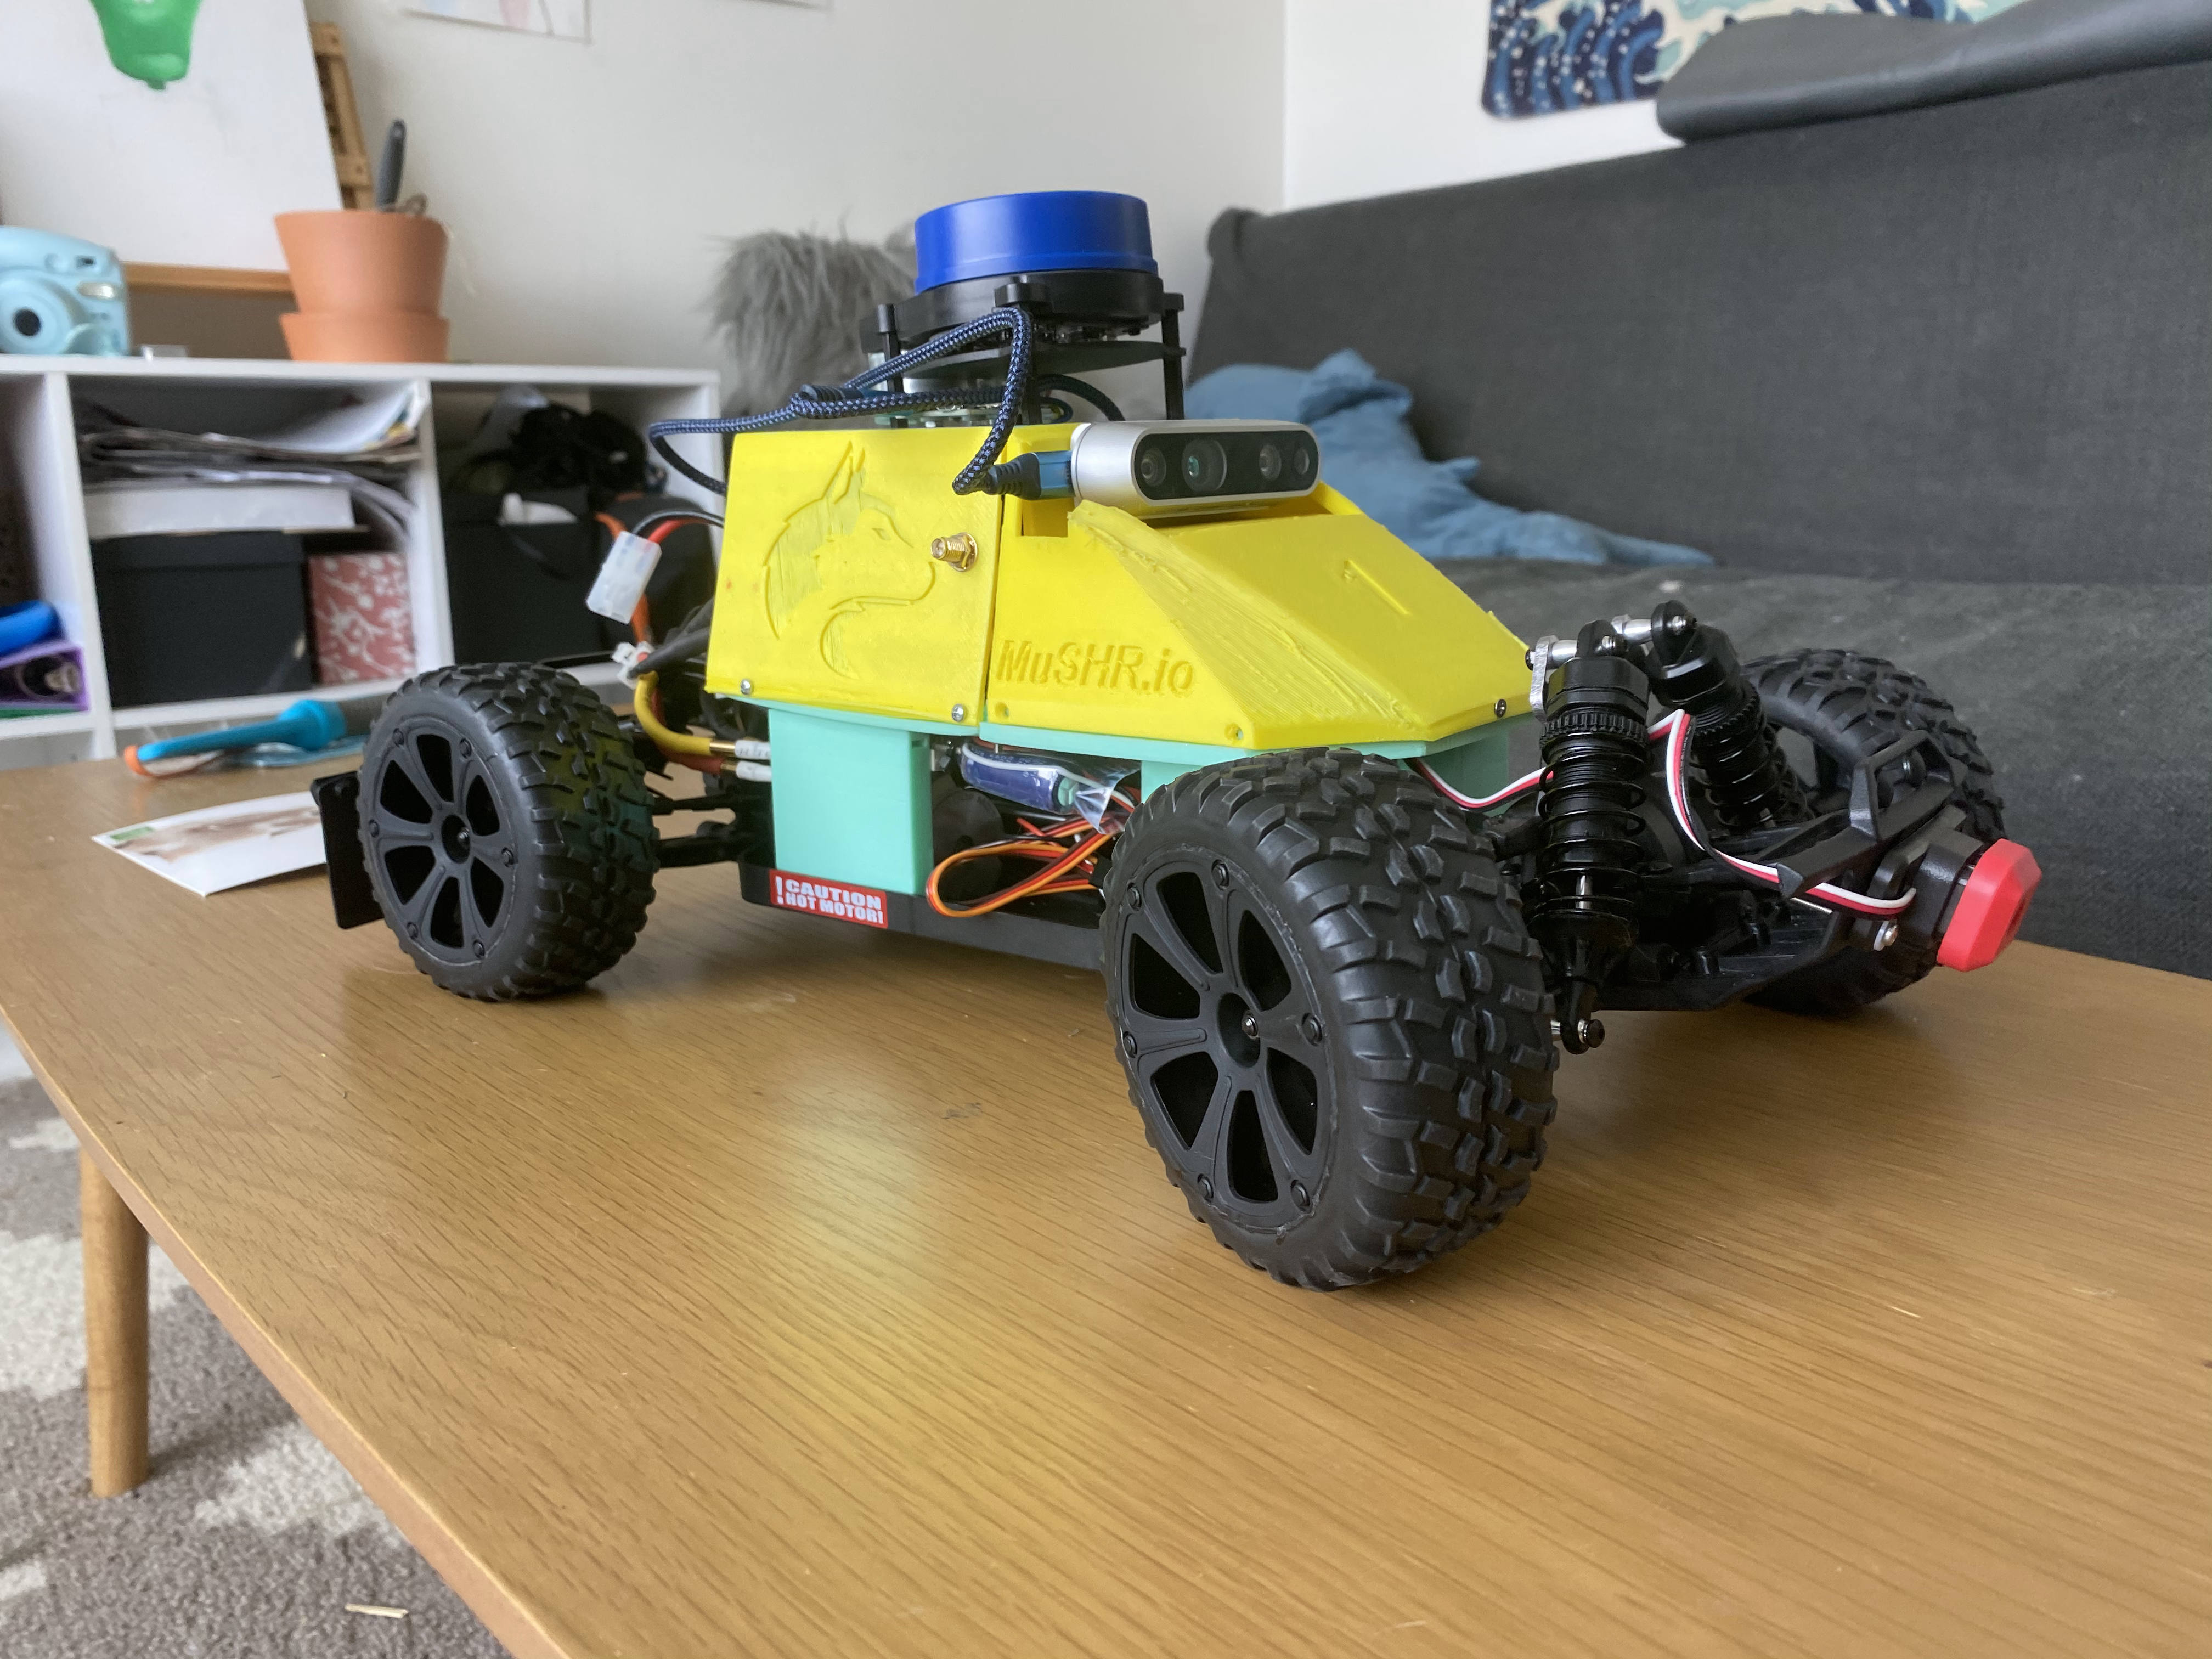mushr_car: (303, 183, 2048, 1300)
